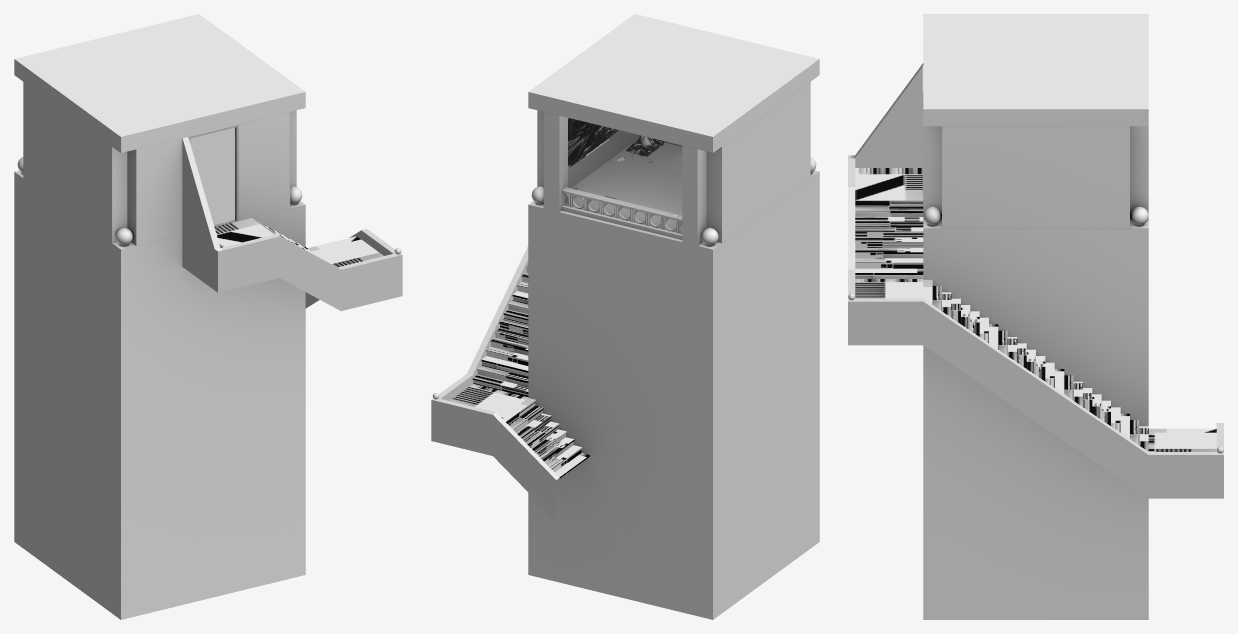
Rendered from sculptors_loft.fbx.
The picture shows the model from 3 angles, left to right: view 1: azimuth 30°, elevation 25°; view 2: azimuth 150°, elevation 25°; view 3: azimuth 270°, elevation 25°; orthographic projection. The views are drawn at different scales.
Visible parts, largest first — view 1: floor1, room_walls, stair_railing, sculptors_door, stairs4, sculptors_door_frame; view 2: floor1, room_walls, stair_railing, polySurface136, stairs_long, stairs_long1, pTorus54, pPlane6, stairs10; view 3: floor1, room_walls, stair_railing, stairs4, stairs_long, polySurface136, stairs10.
Boxes of the visible parts, bbox=[...] form: floor1: bbox=[14, 170, 305, 619]; room_walls: bbox=[14, 14, 305, 245]; stair_railing: bbox=[182, 137, 402, 310]; sculptors_door: bbox=[190, 127, 234, 224]; stairs4: bbox=[214, 218, 383, 267]; sculptors_door_frame: bbox=[188, 124, 238, 226]; floor1: bbox=[528, 140, 819, 619]; room_walls: bbox=[528, 14, 819, 242]; stair_railing: bbox=[431, 246, 559, 520]; polySurface136: bbox=[543, 112, 706, 245]; stairs_long: bbox=[472, 265, 528, 396]; stairs_long1: bbox=[501, 398, 589, 478]; pTorus54: bbox=[561, 187, 682, 239]; pPlane6: bbox=[568, 118, 618, 167]; stairs10: bbox=[450, 384, 528, 417]; floor1: bbox=[923, 220, 1148, 619]; room_walls: bbox=[923, 14, 1148, 228]; stair_railing: bbox=[848, 63, 1223, 498]; stairs4: bbox=[855, 168, 923, 298]; stairs_long: bbox=[923, 279, 1148, 451]; polySurface136: bbox=[1130, 126, 1148, 220]; stairs10: bbox=[1148, 432, 1216, 451].
Size of the model in its own units: 16 by 30 by 20.
Materials: 19 (15 with a texture image).
